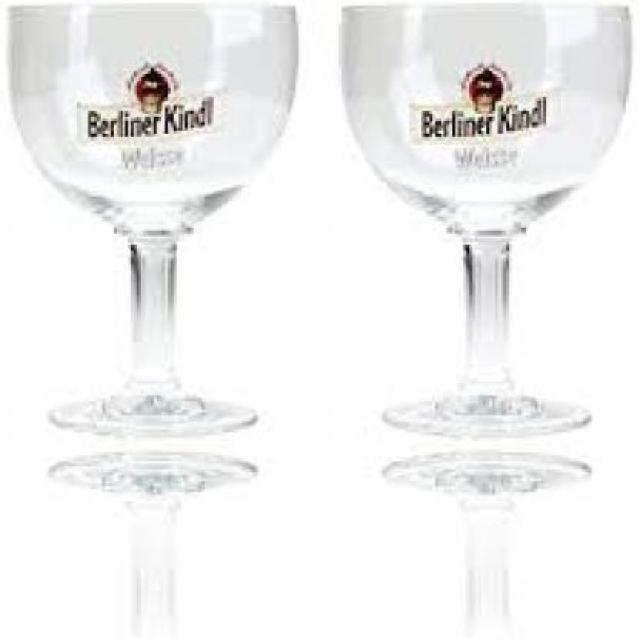kaca: (338, 0, 629, 435), (6, 3, 292, 432)
